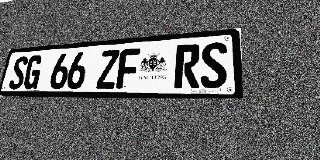6: (66, 52, 89, 89), (49, 53, 71, 89)
F: (116, 48, 140, 89)
G: (22, 55, 44, 89)
R: (174, 44, 200, 89)
S: (200, 42, 227, 88), (8, 56, 29, 89)
Z: (96, 49, 120, 89)
